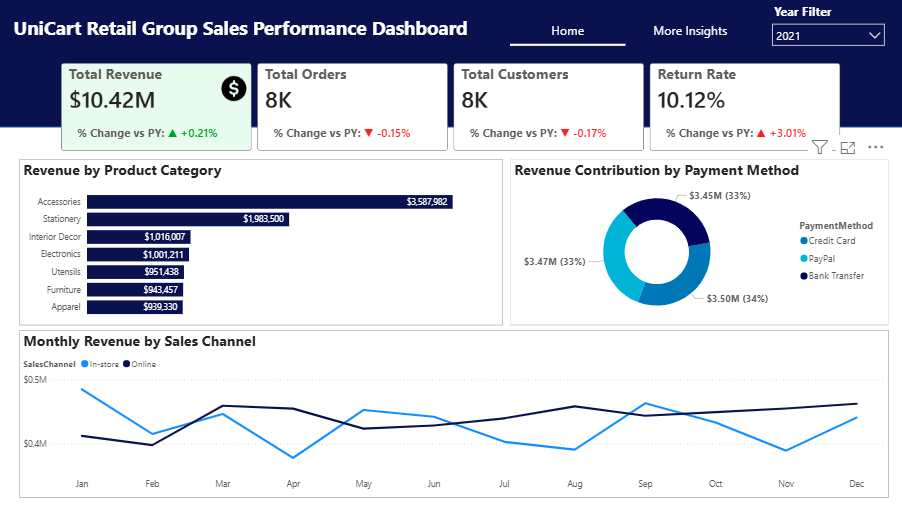

What the dashboard file says about the page in this screenshot:
{"tool":"powerbi","page":{"name":"Home","canvas":[1280,720],"ordinal":0},"visuals":[{"type":"shape","box":[0,0,1279.5,183.9],"z":0},{"type":"cardVisual","fields":{"Data":["_Measures.Total Revenue","_Measures.Total Orders","_Measures.Total Customers","_Measures.Return Rate"]},"box":[73.2,76.4,1134.5,159],"z":1000},{"type":"slicer","fields":{"Values":["DateTable.Year"]},"box":[1084.7,3.1,179.2,84.2],"z":2000},{"type":"lineChart","title":"Monthly Revenue by Sales Channel","fields":{"Y":["_Measures.Total Revenue"],"Category":["DateTable.Month Name"],"Series":["Unicart.SalesChannel"]},"box":[31.2,470.6,1228.1,236.9],"z":3000},{"type":"barChart","title":"Revenue by Product Category","fields":{"Category":["Unicart.ProductCategory"],"Y":["_Measures.Total Revenue"]},"box":[31.2,229.1,682.6,235.3],"z":4000},{"type":"donutChart","title":"Revenue Contribution by Payment Method","fields":{"Category":["Unicart.PaymentMethod"],"Y":["_Measures.Total Revenue"]},"box":[724.7,229.1,534.5,235.3],"z":5000},{"type":"textbox","box":[18.7,20.3,676.4,67],"z":6000},{"type":"pageNavigator","box":[724.7,23.4,336.6,45.2],"z":7000}]}

Visuals, with their boxes in screenshot pixels (x1, y1, x2, y2), scaled from the page's 1280x720 canvas onto the 902x507 screenshot:
shape: box=[0, 0, 901, 129]
cardVisual - _Measures.Total Revenue x _Measures.Total Orders: box=[52, 54, 851, 166]
slicer - DateTable.Year: box=[764, 2, 891, 61]
"Monthly Revenue by Sales Channel" lineChart: box=[22, 331, 887, 498]
"Revenue by Product Category" barChart: box=[22, 161, 503, 327]
"Revenue Contribution by Payment Method" donutChart: box=[511, 161, 887, 327]
textbox: box=[13, 14, 490, 61]
pageNavigator: box=[511, 16, 748, 48]
